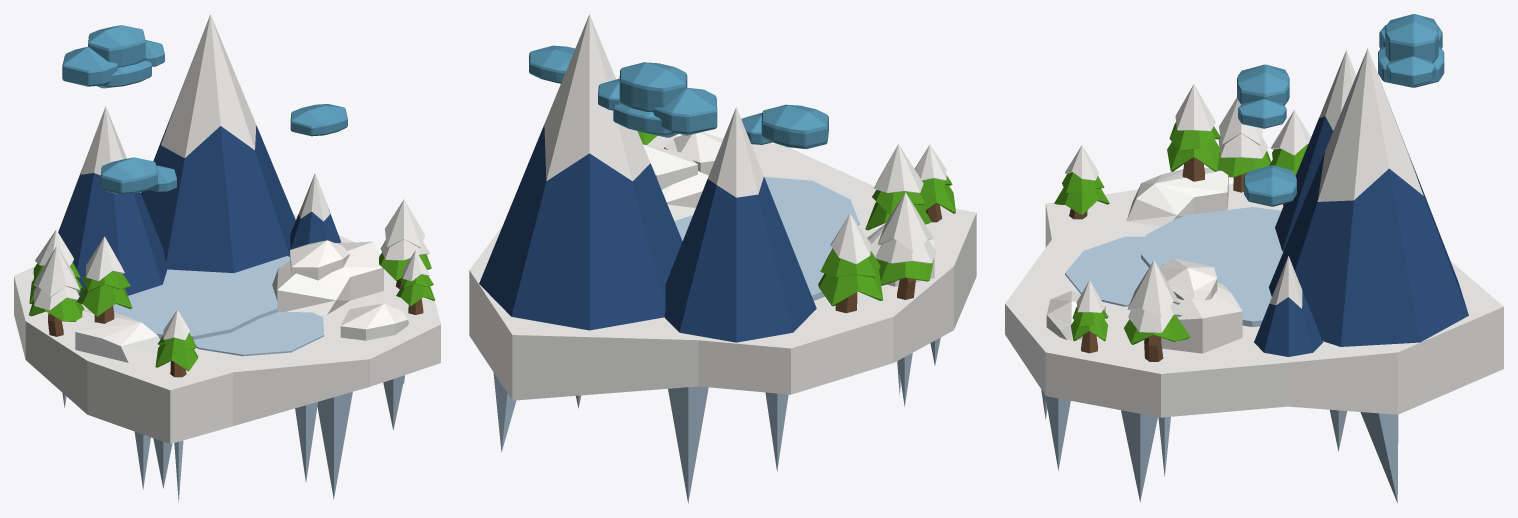
File: Island_19.fbx
3 renders of one model, left to right at view 1: azimuth 30°, elevation 25°; view 2: azimuth 150°, elevation 25°; view 3: azimuth 270°, elevation 25°, orthographic. The views are drawn at different scales.
Parts seen in each view (by area): view 1: Island_19, Island_19_Base; view 2: Island_19, Island_19_Base; view 3: Island_19, Island_19_Base.
Part boxes in pixels (<box>): Island_19: <box>29,14,434,377</box>; Island_19_Base: <box>14,214,440,502</box>; Island_19: <box>479,14,955,342</box>; Island_19_Base: <box>469,135,976,503</box>; Island_19: <box>1046,14,1468,361</box>; Island_19_Base: <box>1005,184,1503,502</box>.
Size of the model in its own units: 2668 by 2832 by 2698.
